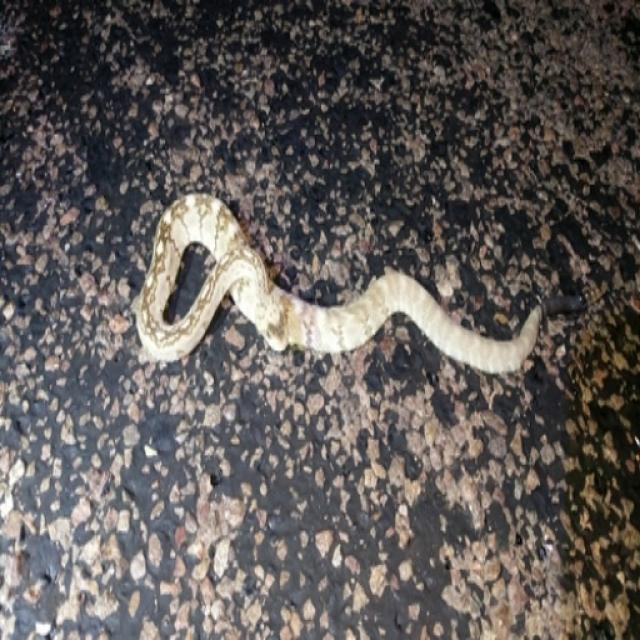snake: (130, 180, 560, 400)
